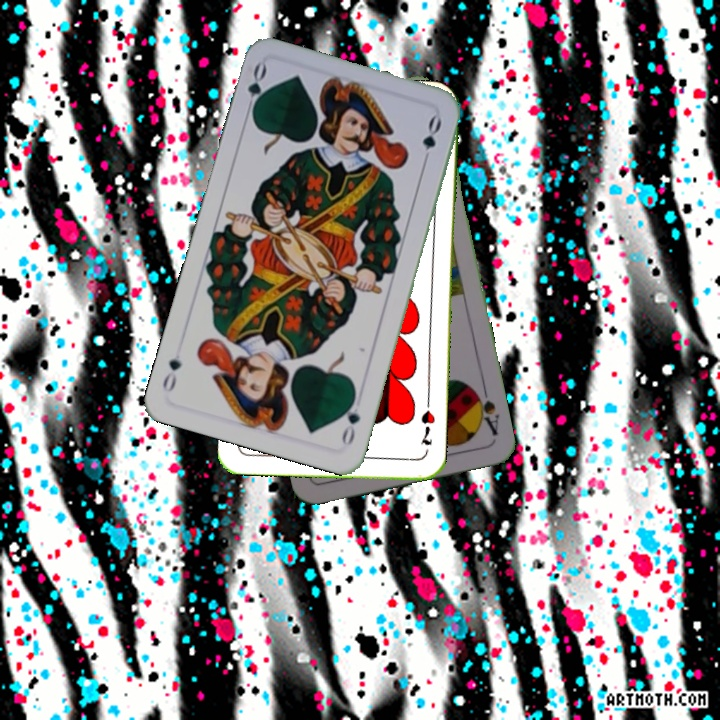GO: (241, 59, 270, 120), (337, 390, 363, 448)
H7: (417, 406, 438, 448)
SA: (469, 383, 502, 438)
